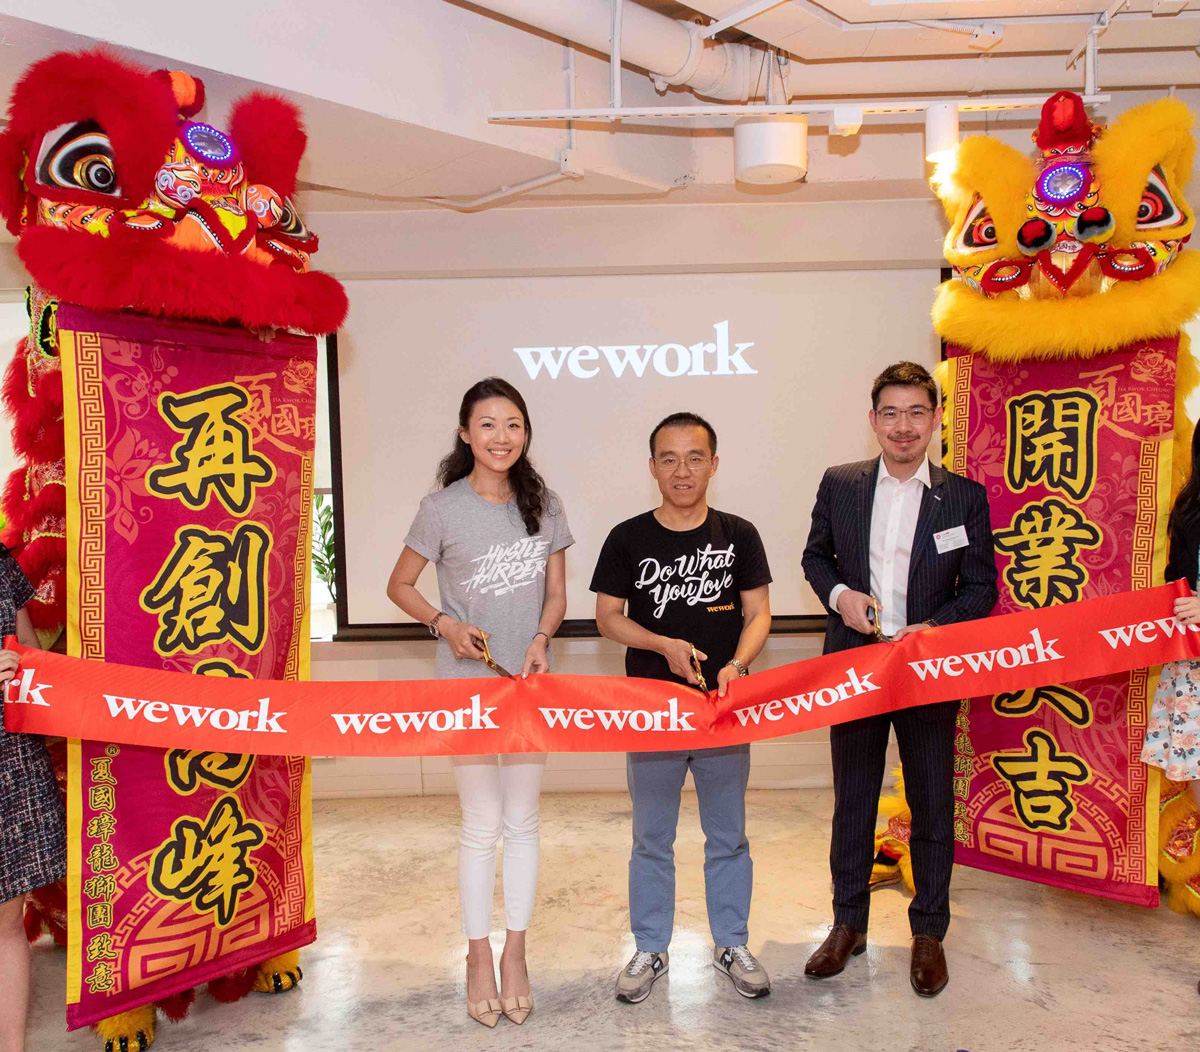wework: (99, 686, 293, 737), (329, 690, 505, 739), (540, 694, 701, 736)
